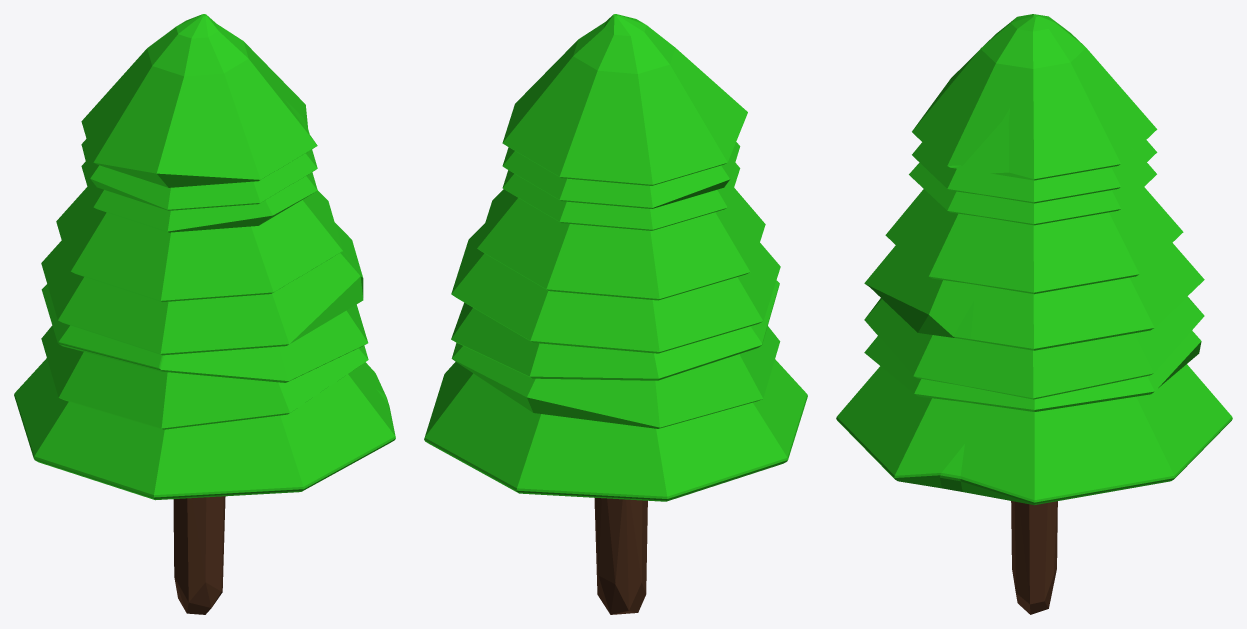
File: Tree_T3.fbx
3 views of the same model, side by side, from view 1: azimuth 30°, elevation 25°; view 2: azimuth 150°, elevation 25°; view 3: azimuth 270°, elevation 25° (orthographic).
Visible parts, largest first — view 1: Tree_T3; view 2: Tree_T3; view 3: Tree_T3.
Boxes of the visible parts, x1,y1,x2,y2 form: Tree_T3: (14,14,395,614); Tree_T3: (424,14,807,614); Tree_T3: (836,14,1232,614).
Bounding box in the file's own units: 227 × 378 × 227.
